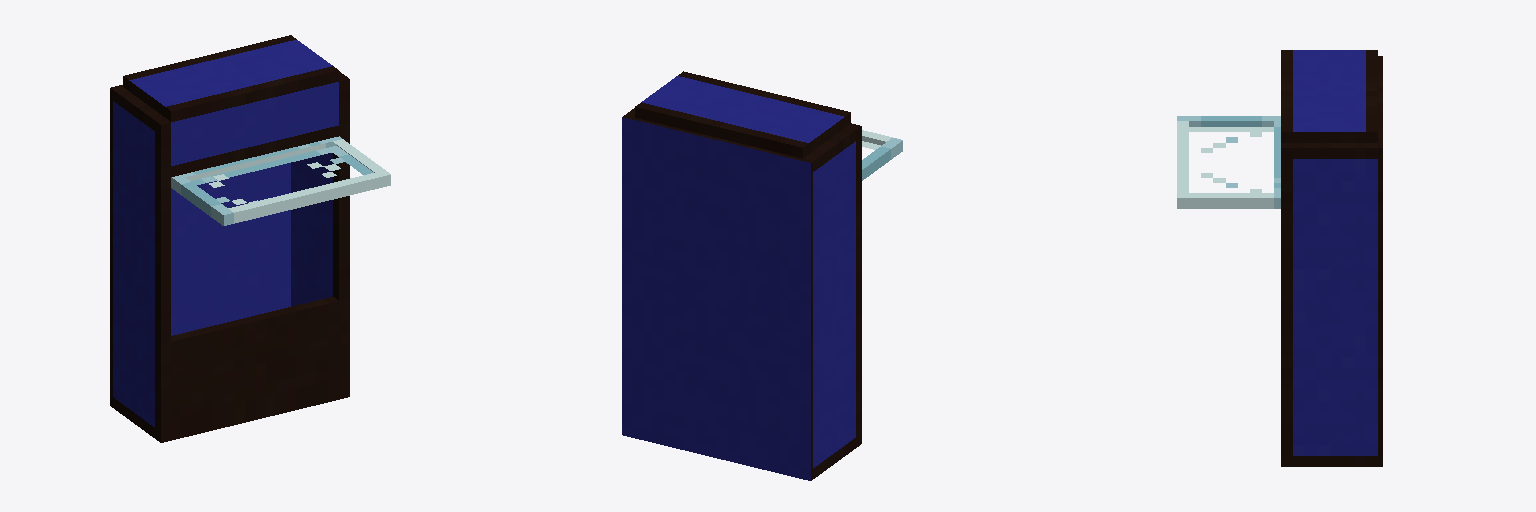
The picture shows the model from 3 angles: view 1: azimuth 30°, elevation 25°; view 2: azimuth 150°, elevation 25°; view 3: azimuth 270°, elevation 25°; orthographic projection.
Parts seen in each view (by area): view 1: Import; view 2: Import; view 3: Import.
Part boxes in pixels (x1,y1,x2,y2): Import: (110,35,390,442); Import: (622,71,902,480); Import: (1177,50,1382,466).
Bounding box in the file's own units: 1.12 × 1.88 × 1.06.
1 materials, 1 textured.